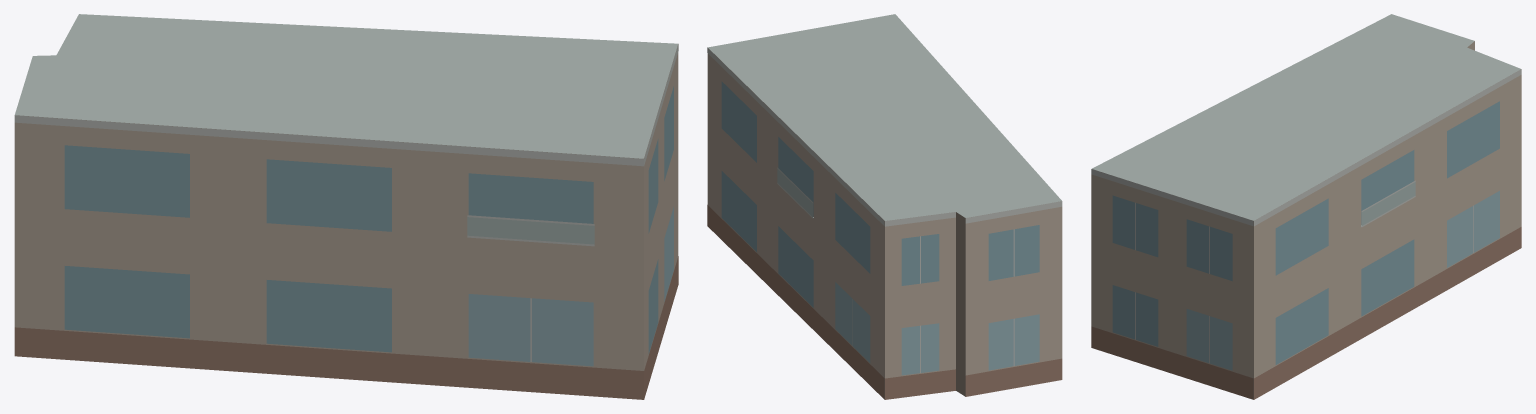
Rendered from survey-upis-32801986.glb.
3 views of the same model, side by side, from view 1: azimuth 30°, elevation 25°; view 2: azimuth 150°, elevation 25°; view 3: azimuth 270°, elevation 25° (orthographic). The views are drawn at different scales.
Visible parts, largest first — view 1: survey-upis-32801986.tmp; view 2: survey-upis-32801986.tmp; view 3: survey-upis-32801986.tmp.
Part boxes in pixels (<box>): survey-upis-32801986.tmp: <box>14,14,678,399</box>; survey-upis-32801986.tmp: <box>707,14,1062,399</box>; survey-upis-32801986.tmp: <box>1091,14,1521,399</box>.
Size of the model in its own units: 19.34 by 7.8 by 16.99.
